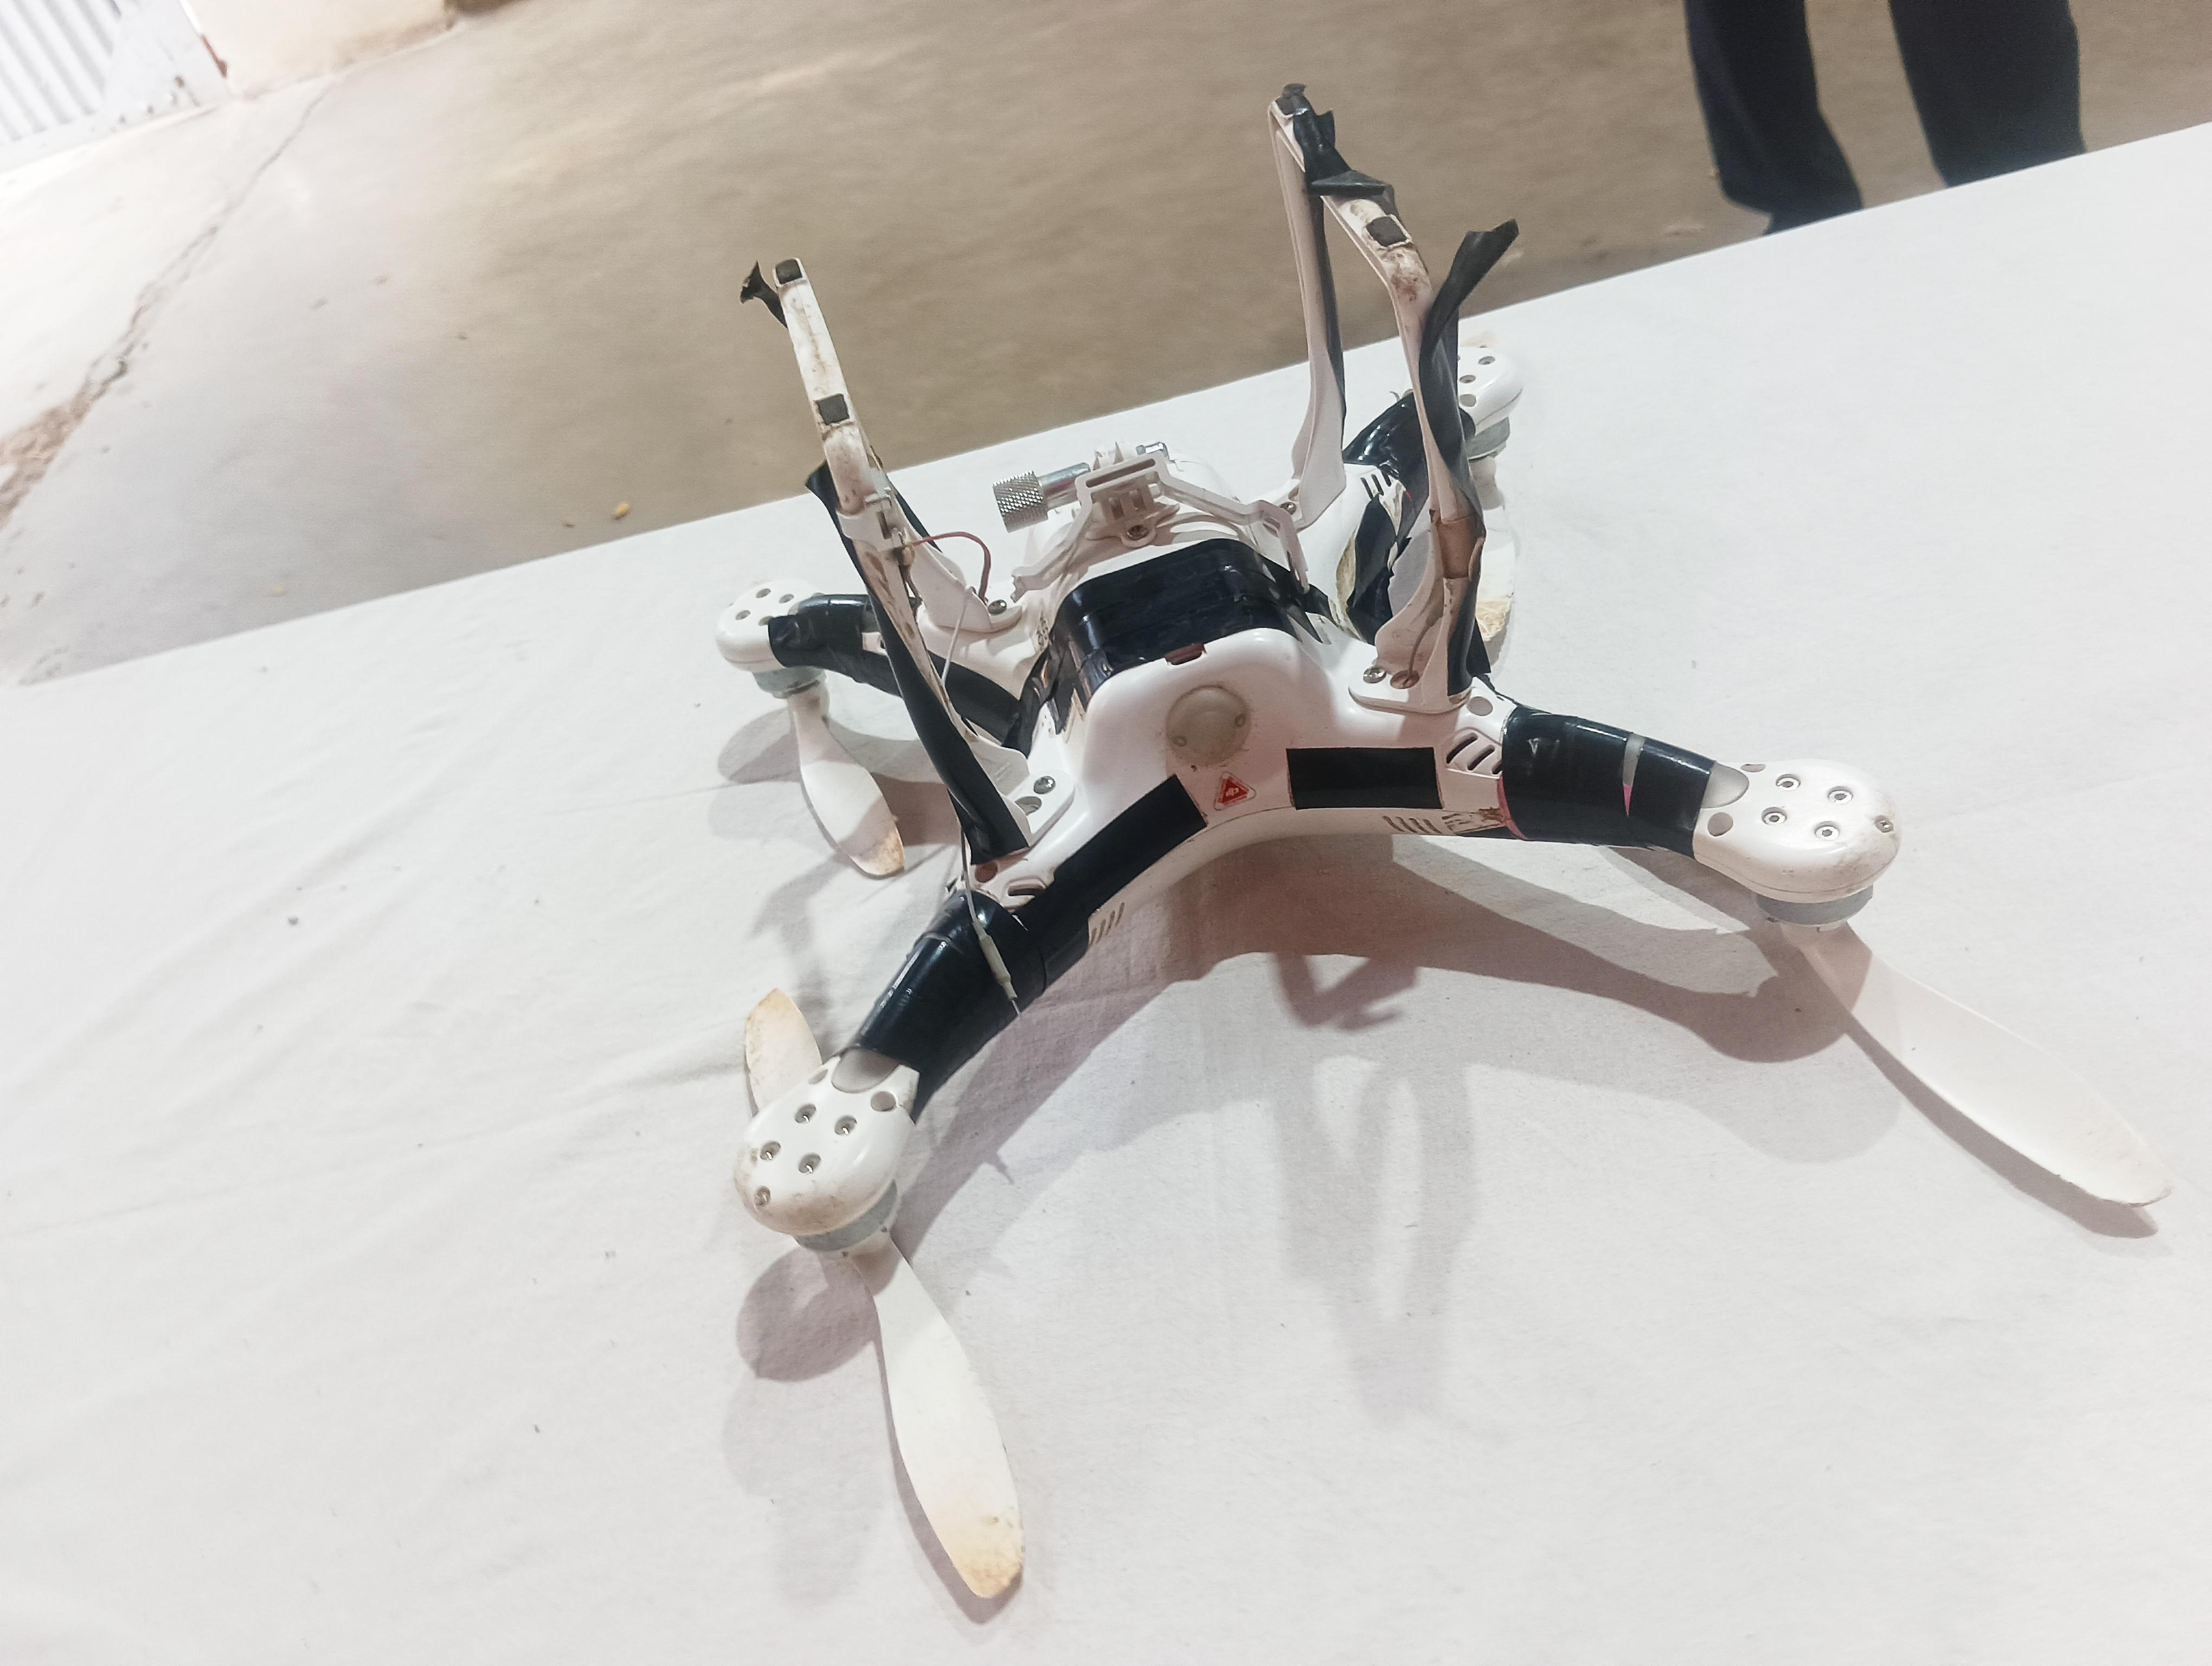drone: (701, 110, 1946, 1355)
